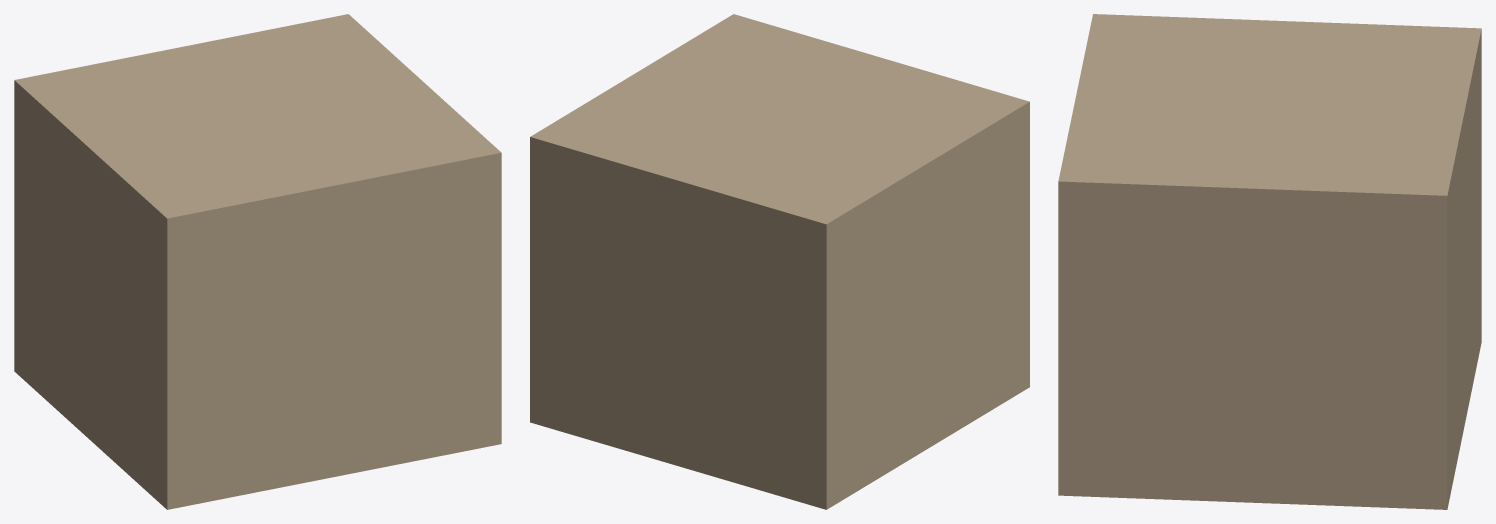
The model's file is bld_108401251.dae.
3 renders of one model, left to right at view 1: azimuth 30°, elevation 25°; view 2: azimuth 150°, elevation 25°; view 3: azimuth 270°, elevation 25°, orthographic. The views are drawn at different scales.
Visible parts, largest first — view 1: bld_108401251; view 2: bld_108401251; view 3: bld_108401251.
Part boxes in pixels (x1,y1,x2,y2): bld_108401251: (14, 14, 501, 509); bld_108401251: (530, 14, 1029, 509); bld_108401251: (1058, 14, 1481, 509).
Bounding box in the file's own units: 9.93 × 9.77 × 8.
